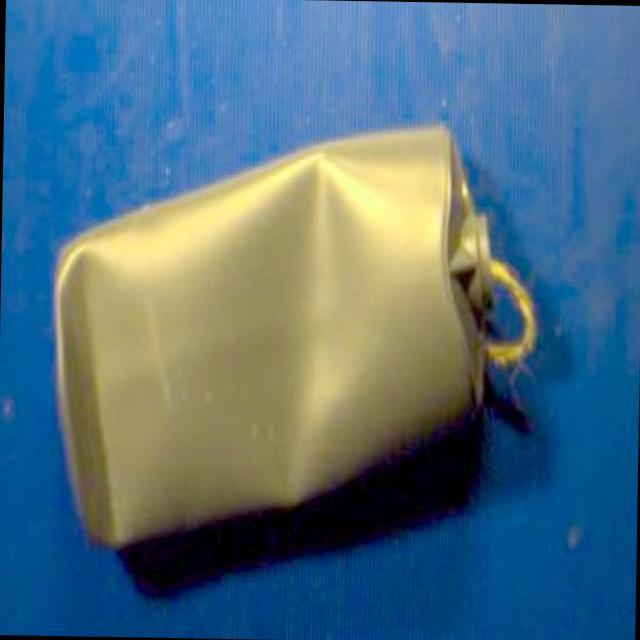HDPE Plastic: (45, 114, 544, 560)
